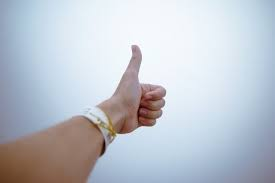ThumbsUp: (118, 44, 167, 136)
